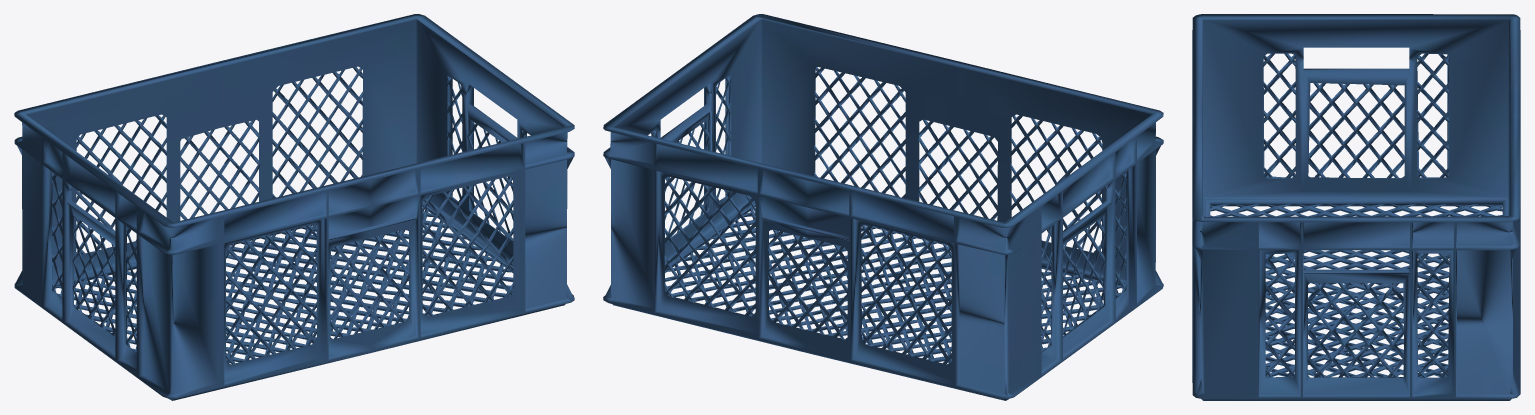
File: crate-blue.glb
3 views of the same model, side by side, from view 1: azimuth 30°, elevation 25°; view 2: azimuth 150°, elevation 25°; view 3: azimuth 270°, elevation 25° (orthographic). The views are drawn at different scales.
Visible parts, largest first — view 1: sm_crate_blue_a01_01; view 2: sm_crate_blue_a01_01; view 3: sm_crate_blue_a01_01.
Part boxes in pixels (<box>): sm_crate_blue_a01_01: <box>14,14,574,400</box>; sm_crate_blue_a01_01: <box>603,14,1163,400</box>; sm_crate_blue_a01_01: <box>1192,14,1520,400</box>.
Size of the model in its own units: 0.6051 by 0.2525 by 0.4051.
1 material, 1 textured.
